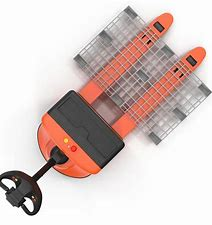Pallet Jack: (1, 4, 212, 217)
